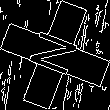N_E: (24, 27, 86, 83)
